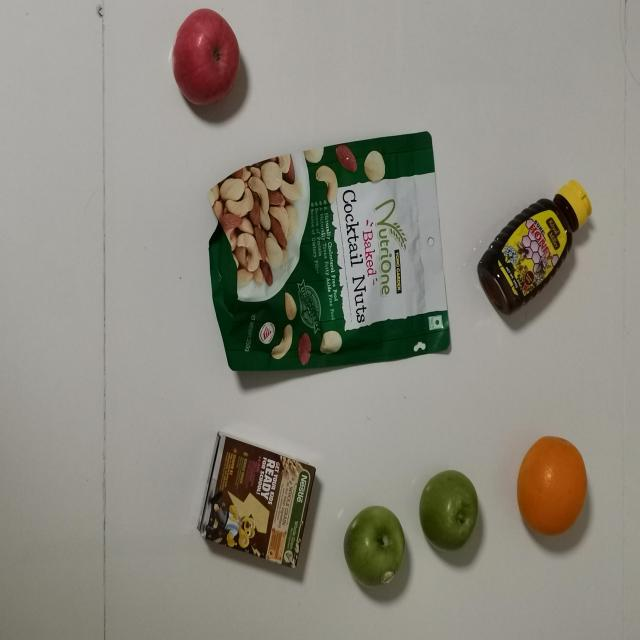Apple: (170, 9, 243, 108), (338, 493, 410, 593), (420, 453, 492, 553)
Cerealbox: (190, 427, 318, 582)
Orange: (514, 435, 588, 534)
